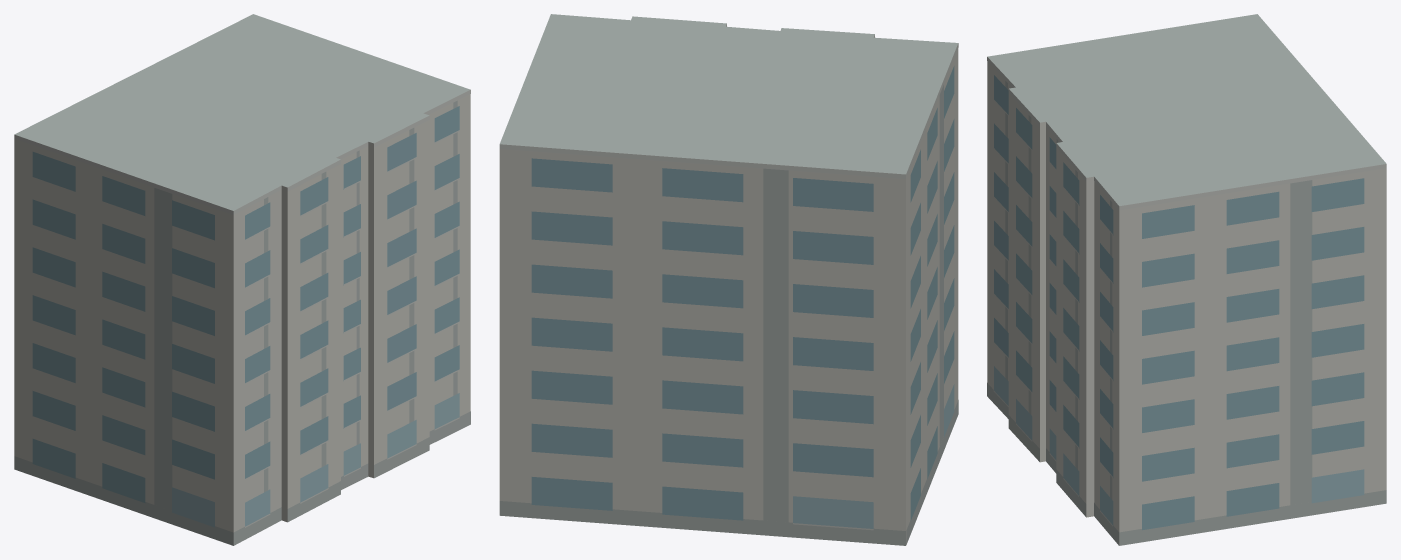
Rendered from survey-upis-32834177.glb.
3 views of the same model, side by side, from view 1: azimuth 30°, elevation 25°; view 2: azimuth 150°, elevation 25°; view 3: azimuth 270°, elevation 25° (orthographic). The views are drawn at different scales.
Visible parts, largest first — view 1: survey-upis-32834177.tmp; view 2: survey-upis-32834177.tmp; view 3: survey-upis-32834177.tmp.
Boxes of the visible parts, box(x1,y1,x2,y2) form: survey-upis-32834177.tmp: box(14, 14, 470, 545); survey-upis-32834177.tmp: box(499, 14, 958, 545); survey-upis-32834177.tmp: box(987, 14, 1386, 545).
Size of the model in its own units: 23.25 by 19.15 by 20.43.
